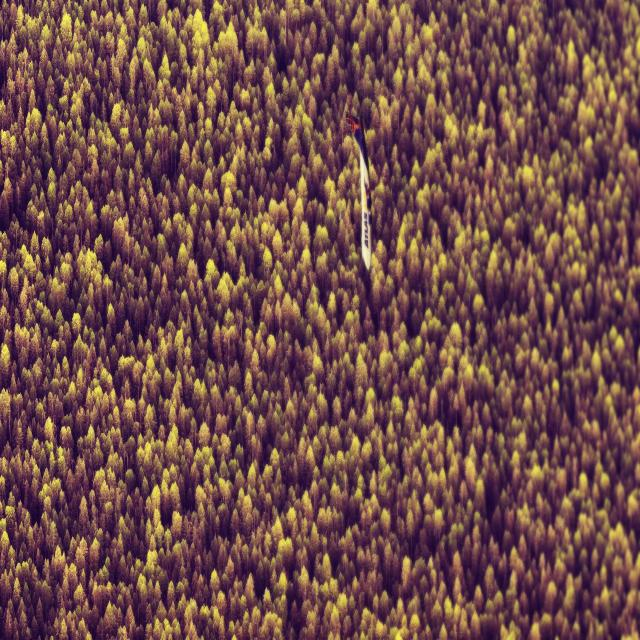airplane: (345, 112, 372, 270)
